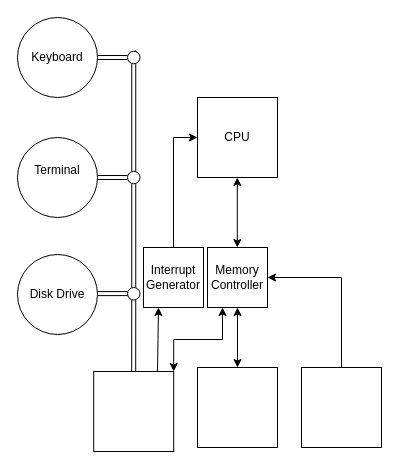
The diagram is 399 pixels wide and 469 high, and some of its shapes have lost their labels. Each missing label, with the centre of its shape:
"IO Controller" belongs at point 133,411.
"Kernal ROM" belongs at point 341,407.
"Main Memory" belongs at point 237,407.
